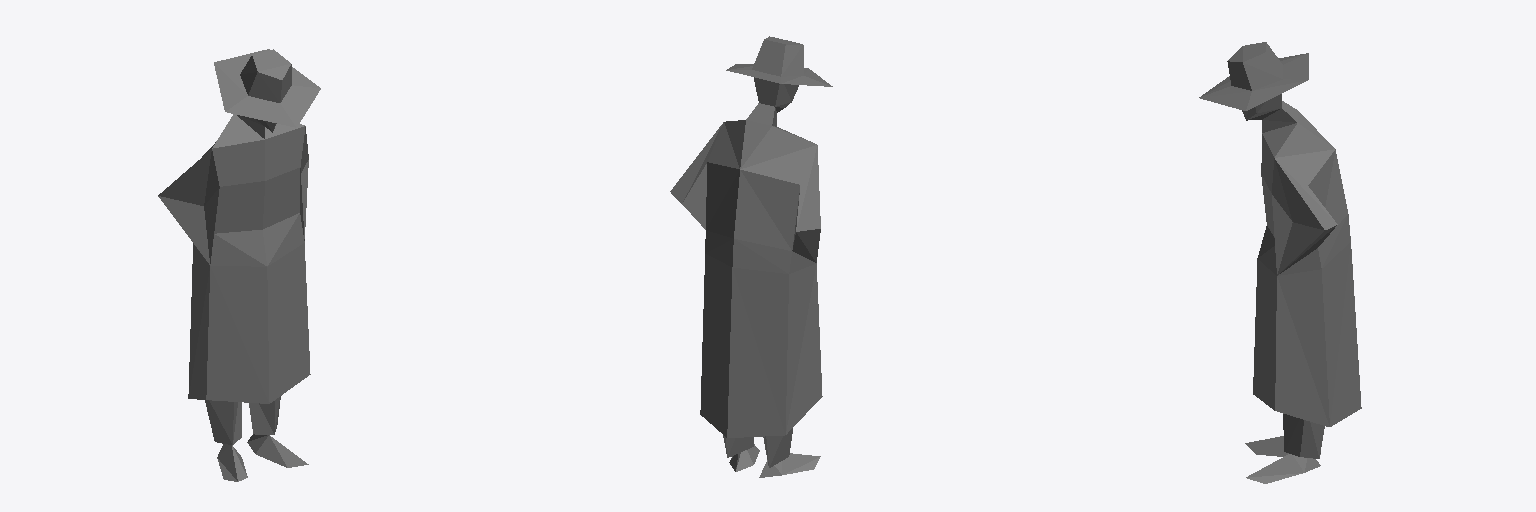
File: greyman.obj
3 views of the same model, side by side, from view 1: azimuth 30°, elevation 25°; view 2: azimuth 150°, elevation 25°; view 3: azimuth 270°, elevation 25° (orthographic).
Visible parts, largest first — view 1: Object_0; view 2: Object_0; view 3: Object_0.
Part boxes in pixels (x1,y1,x2,y2): Object_0: (158,49,320,481); Object_0: (670,36,832,477); Object_0: (1199,42,1361,483).
Size of the model in its own units: 0.6832 by 1.81 by 0.6391.